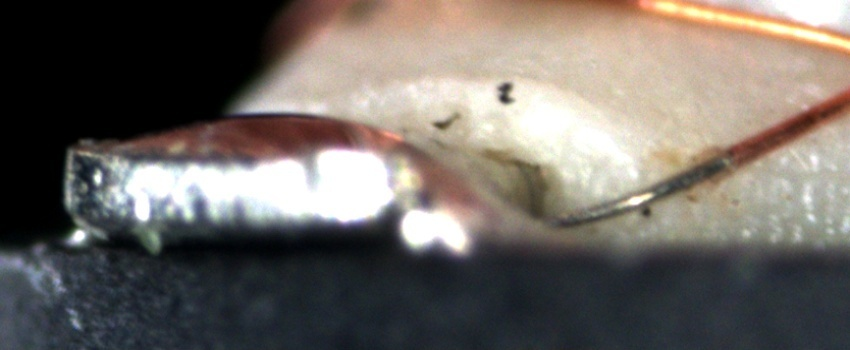DL: (760, 134, 849, 198)
TS: (540, 153, 736, 228)
